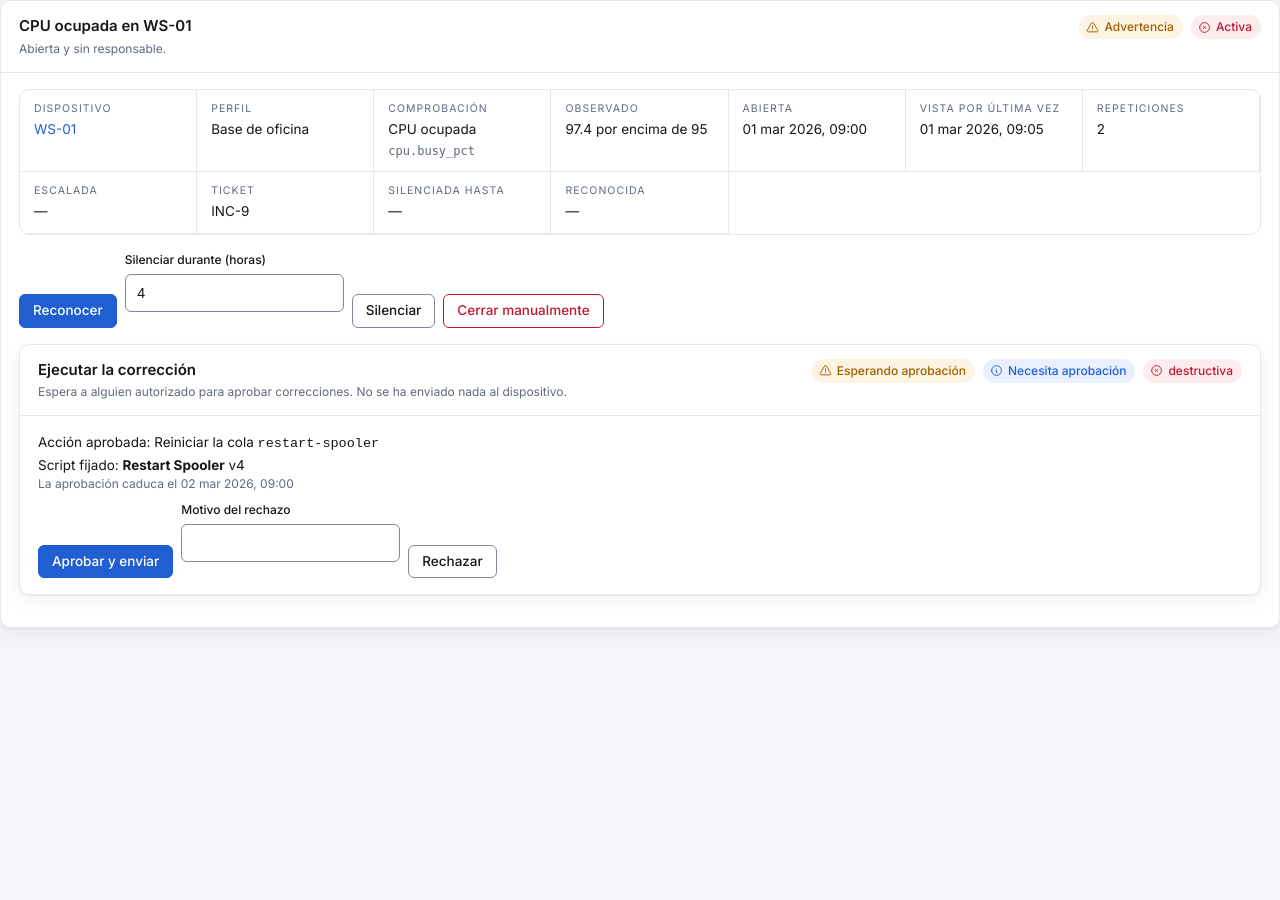
Test: the alert detail, in Spanish › words the approval confirmation, plain and destructive
Click the button "Aprobar y enviar" at [106, 561], box top-left (38, 544), bottom-right (173, 578)
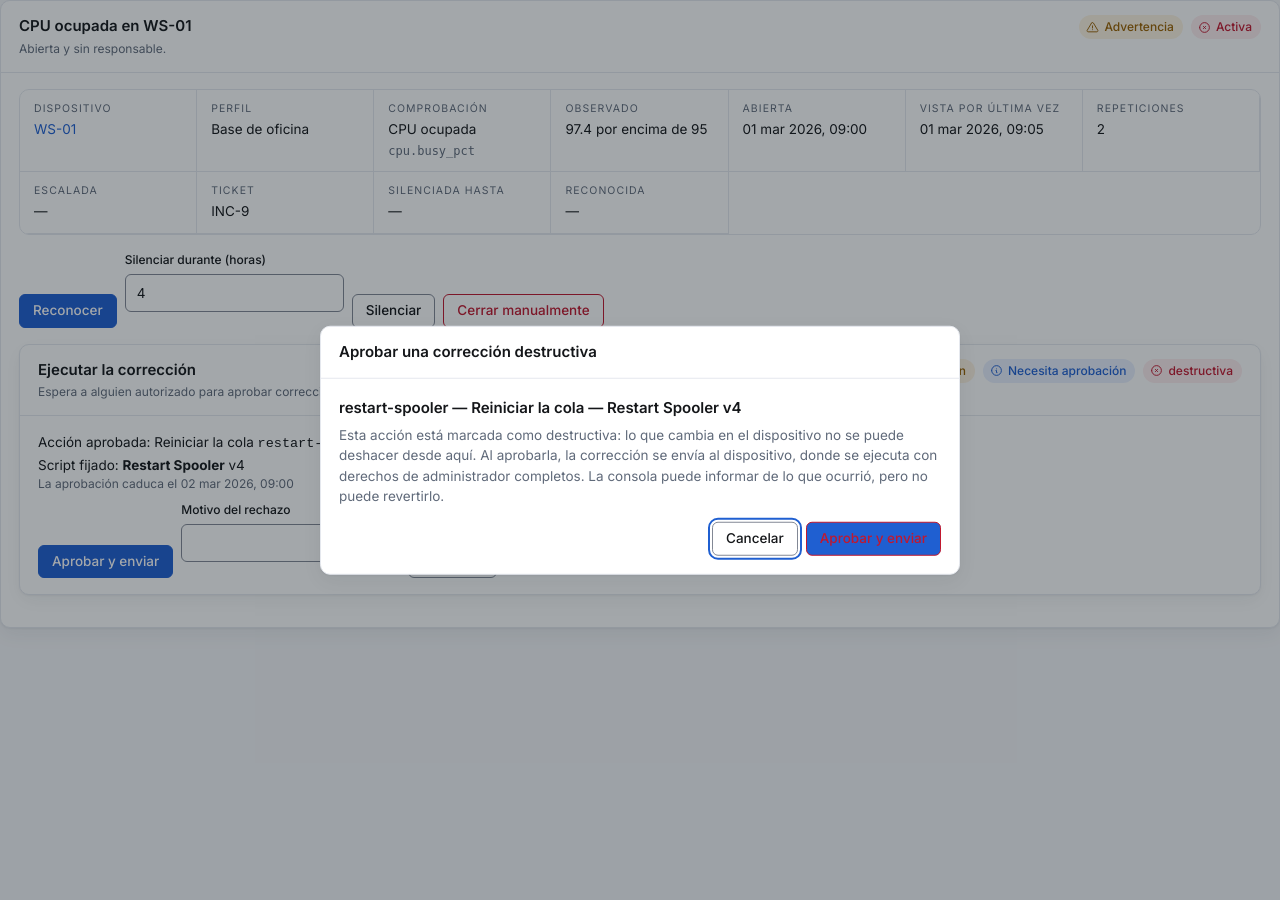
Now the dialog "Aprobar una corrección destructiva" shows "Esta acción está marcada como destructiva", box top-left (339, 427), bottom-right (937, 504)
Now the dialog "Aprobar una corrección destructiva" shows "restart-spooler — Reiniciar la cola — Restart Spooler v4", box top-left (339, 397), bottom-right (742, 416)
